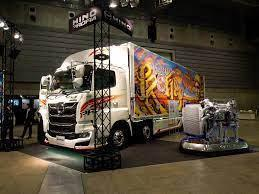Person: (21, 102, 34, 140), (2, 104, 15, 141)
Truck: (39, 41, 206, 149)
